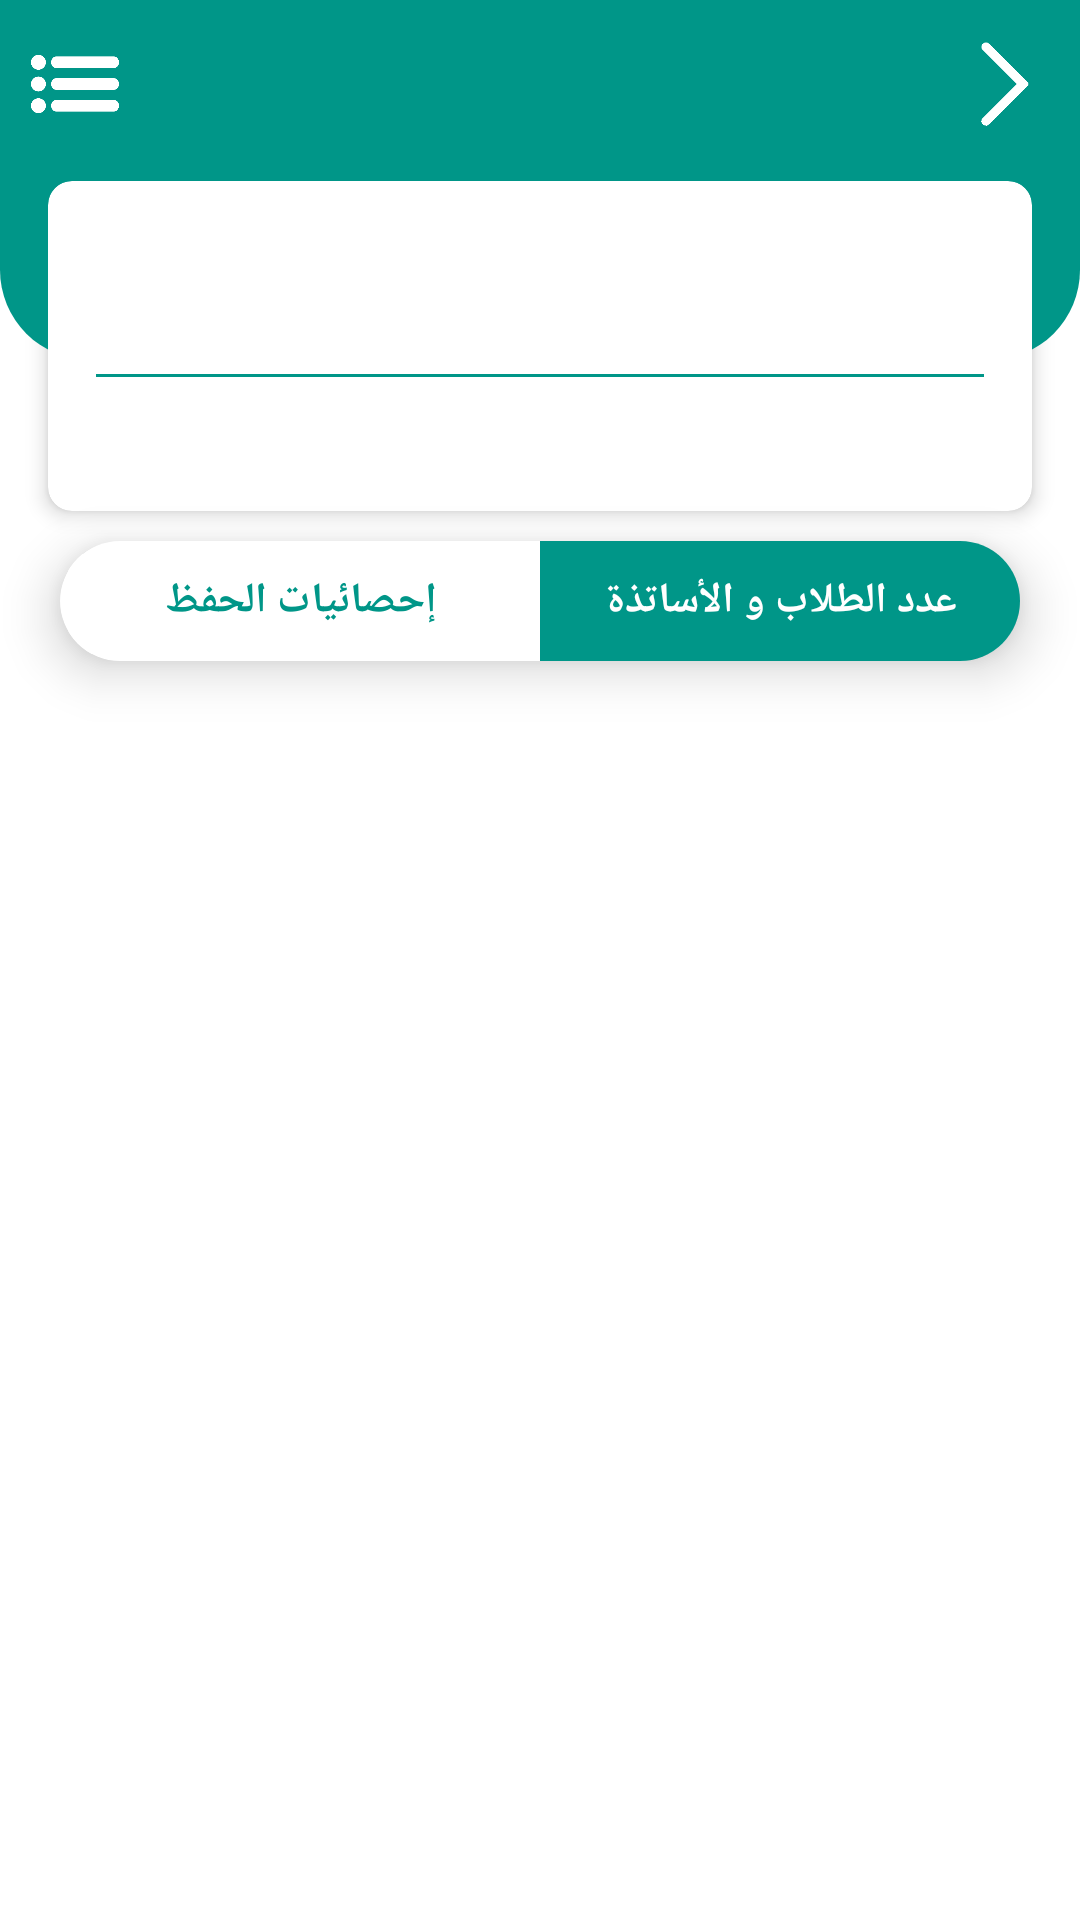

Screen size 1080 x 1920. Icon name, then its center in pixels as (x,y):
iconmenu: (75,84)
